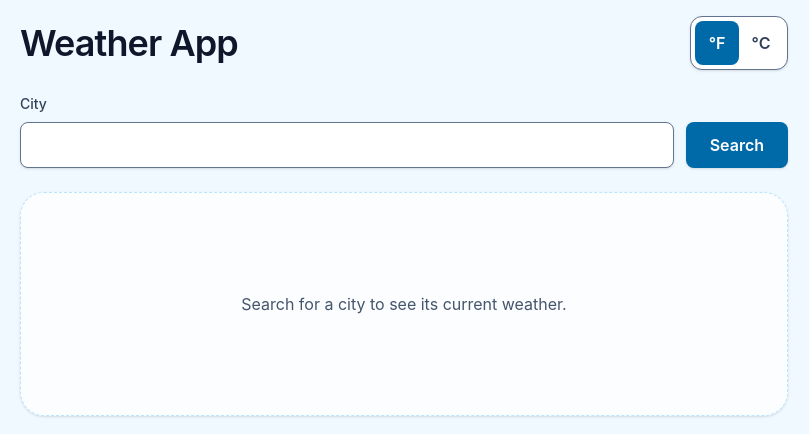
App › renders the provider-unavailable error with safe, category-specific content
The image size is (809, 434).
Type "Tampa" into the field labelled "City" at [347, 145], box [20,122,674,168]
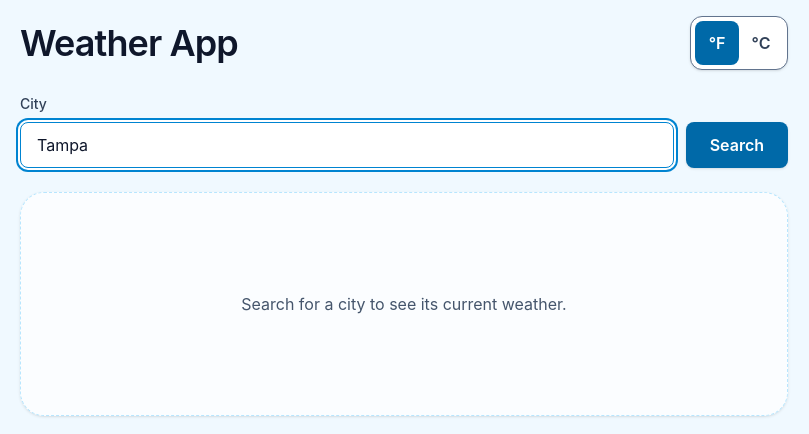
Click the button "Search" at [737, 145], box [686,122,788,168]
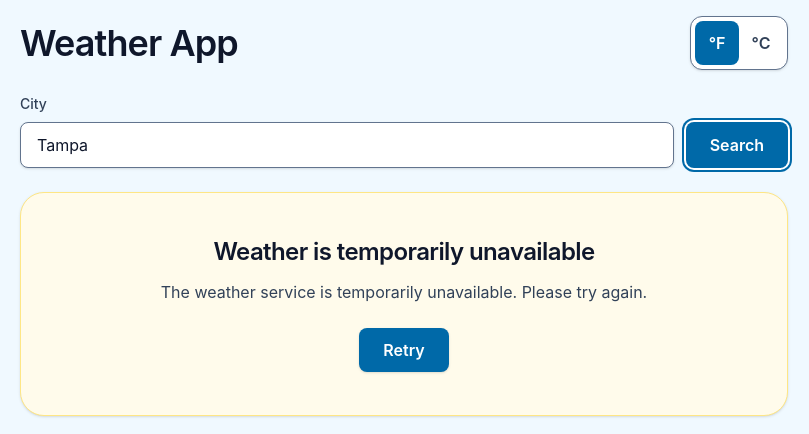
Expected: the heading "Weather is temporarily unavailable" is shown, [213,237,594,266]
Expected: the text "The weather service is temporarily unavailable. Please try again." is shown, [161,280,647,304]
Expected: the button "Retry" is enabled, [359,328,449,372]
